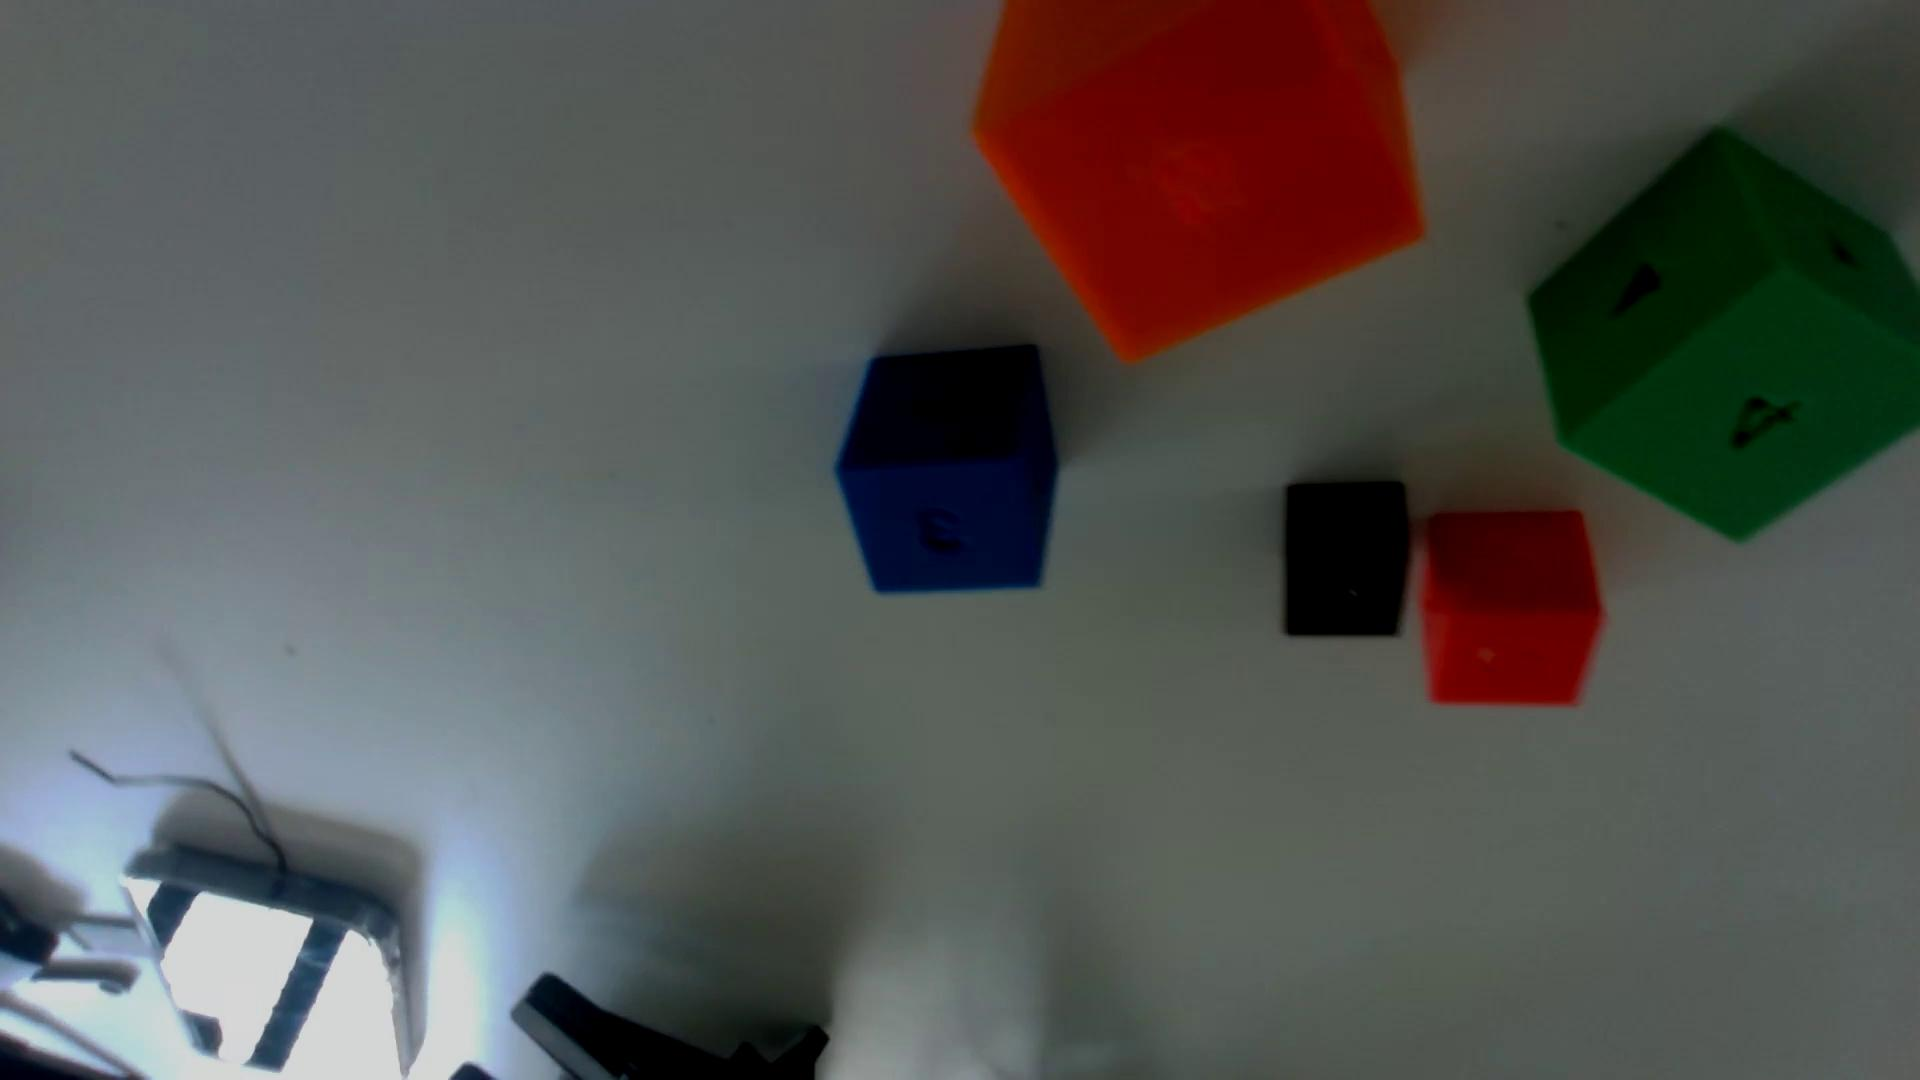black: (1283, 480, 1408, 636)
blue: (836, 344, 1058, 593)
green: (1528, 129, 1920, 539)
orange: (973, 0, 1423, 359)
red: (1419, 510, 1604, 705)
